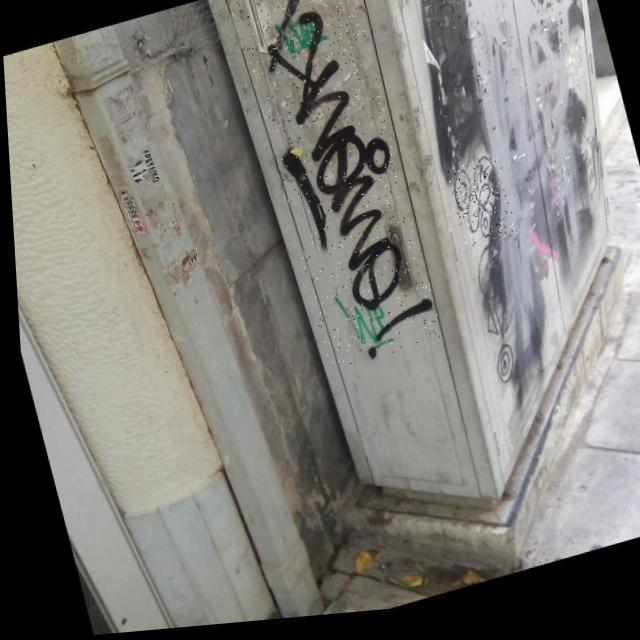-: (234, 0, 440, 382), (443, 162, 516, 258)
